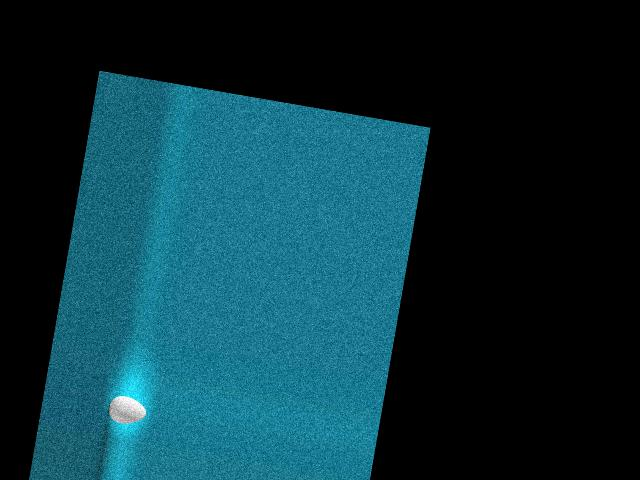egg: (106, 394, 147, 427)
